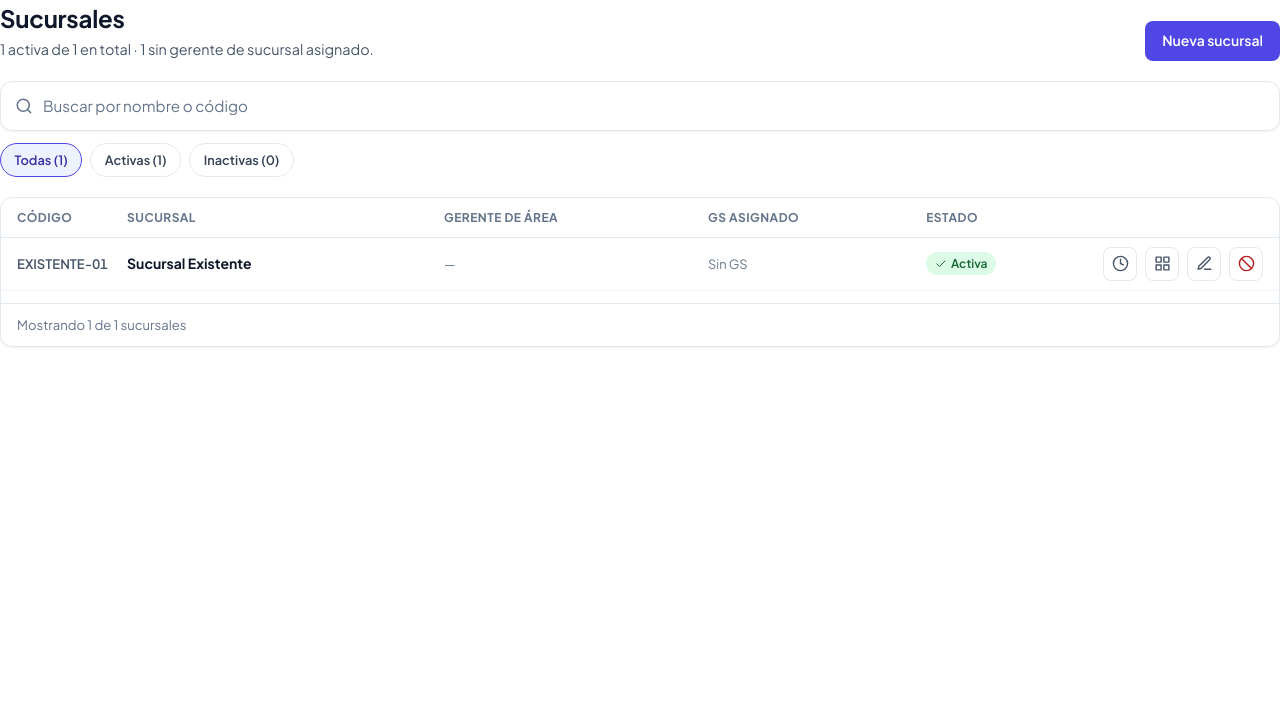
SucursalesPage: número de guardias › conserva el modal, los datos y la lista ante creación denegada
Check: the text "Sucursal Existente" is shown, box [127,254,252,272]
Click the button "Nueva sucursal" at x=1213, y=41, box [1145,21,1279,61]
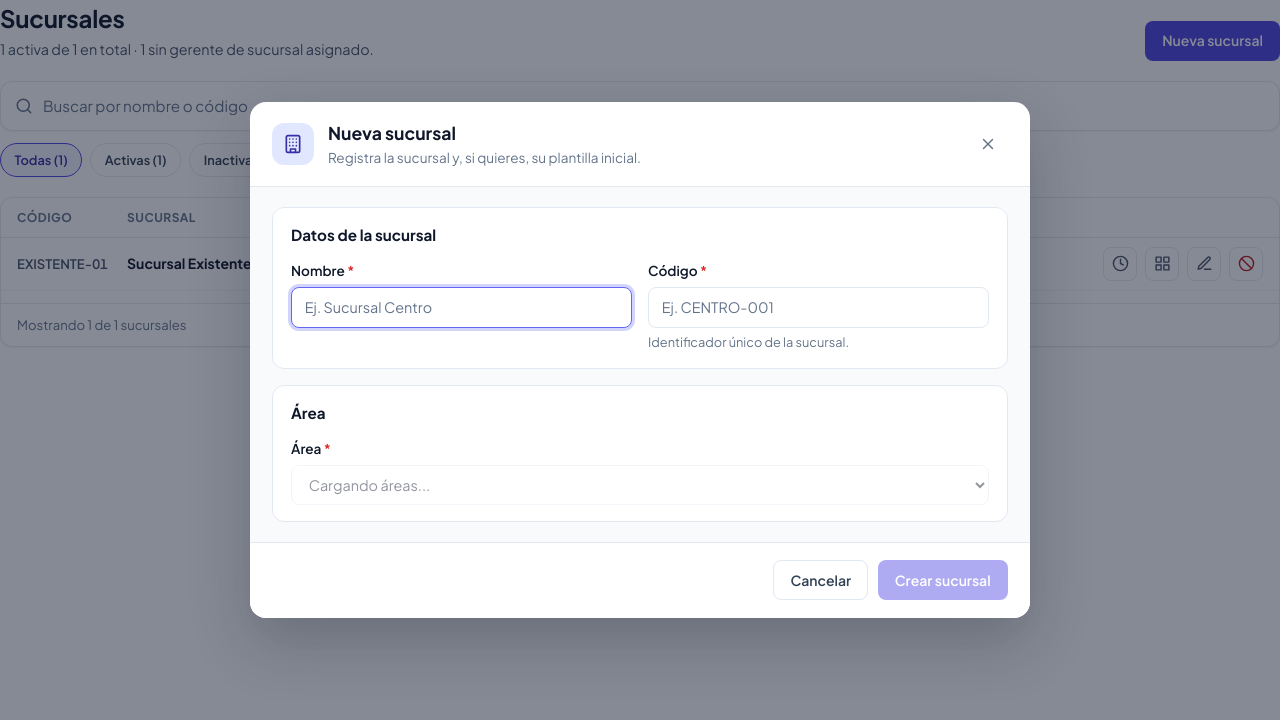
Type "Sucursal Centro" into the field labelled "Nombre *" at x=462, y=307, box [291,287,632,328]
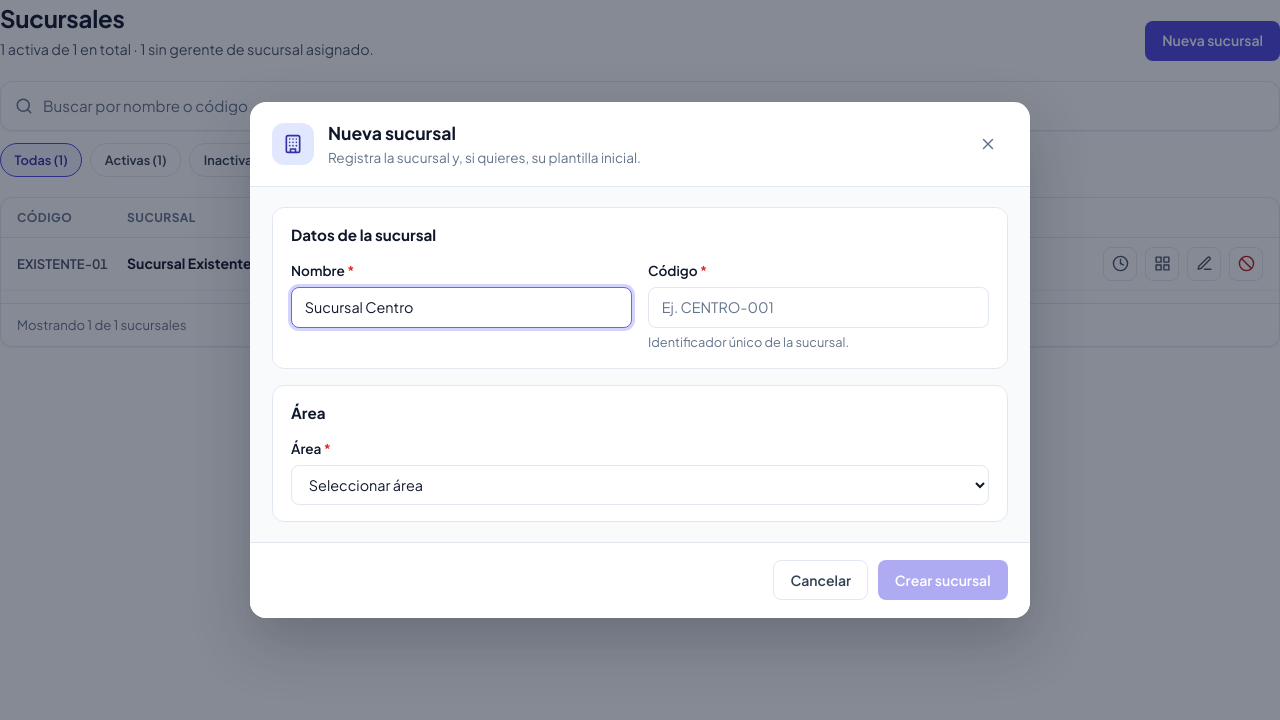
Type "CENTRO-01" into the field labelled "Código *" at x=818, y=307, box [648,287,989,328]
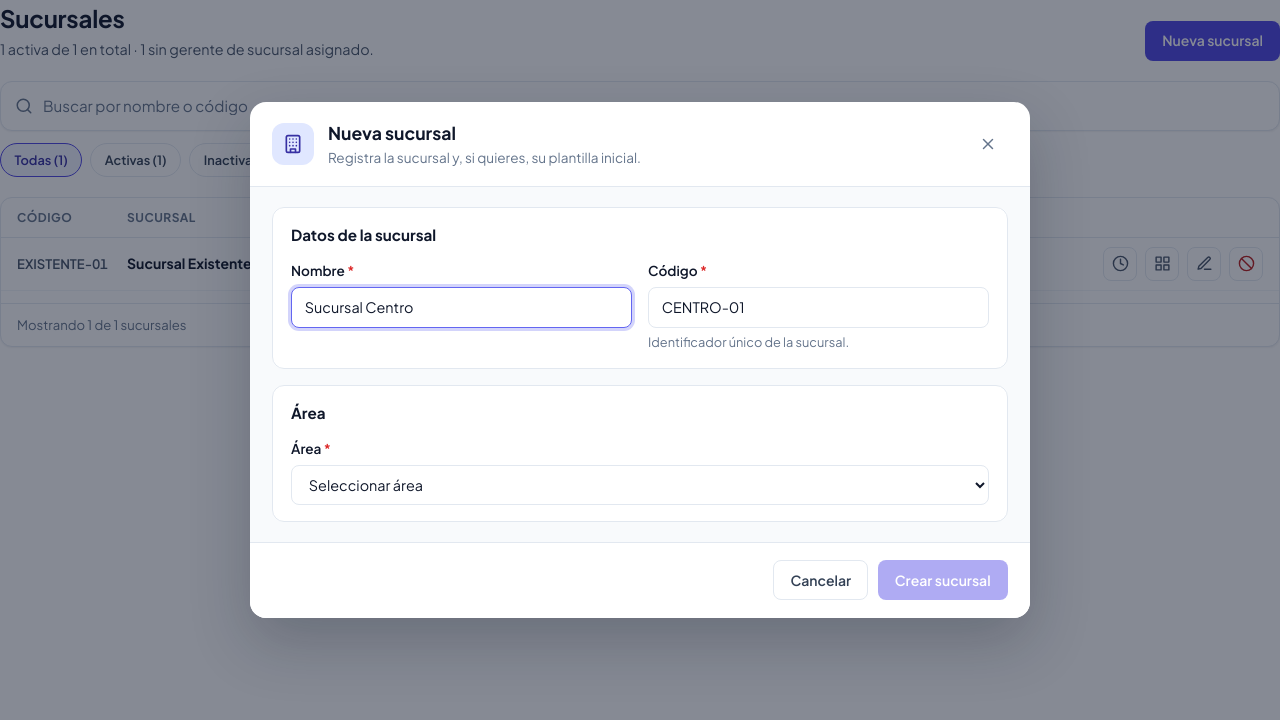
Select "CENTRO — Centro" in the dropdown labelled "Área *" at x=640, y=485, box [291,465,989,505]
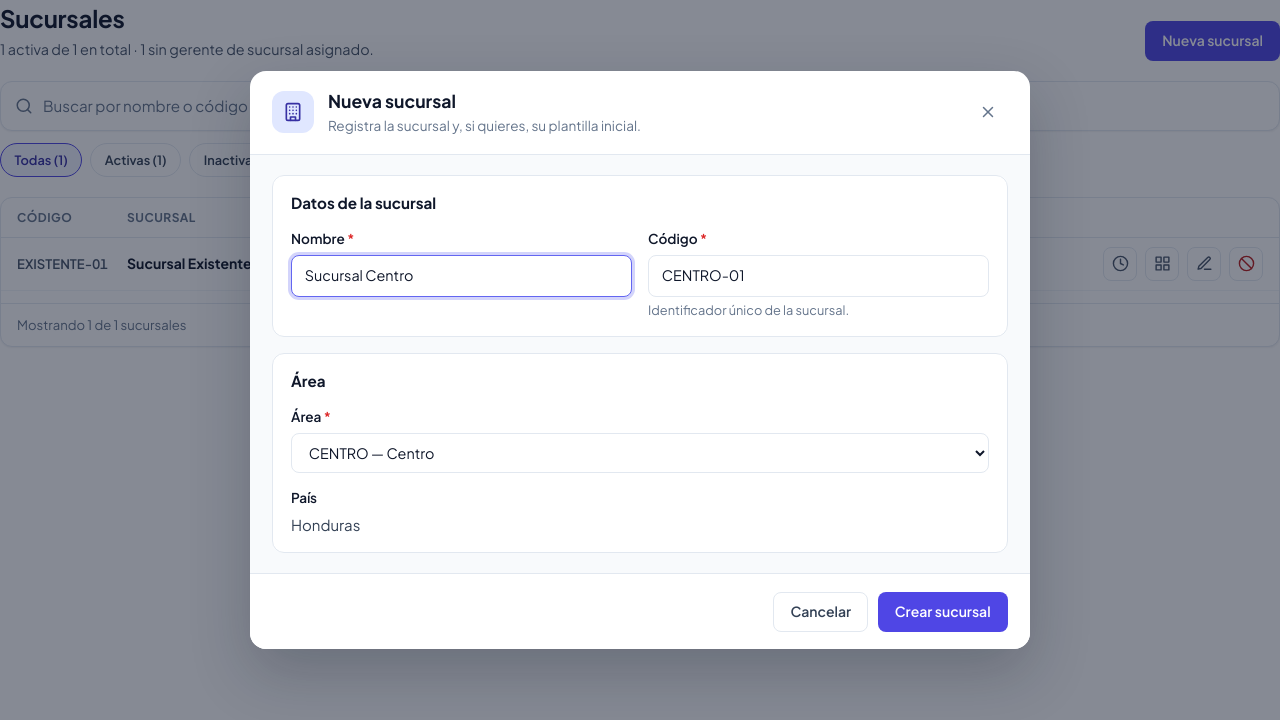
Click the button "Crear sucursal" at x=943, y=612, box [878,592,1008,632]
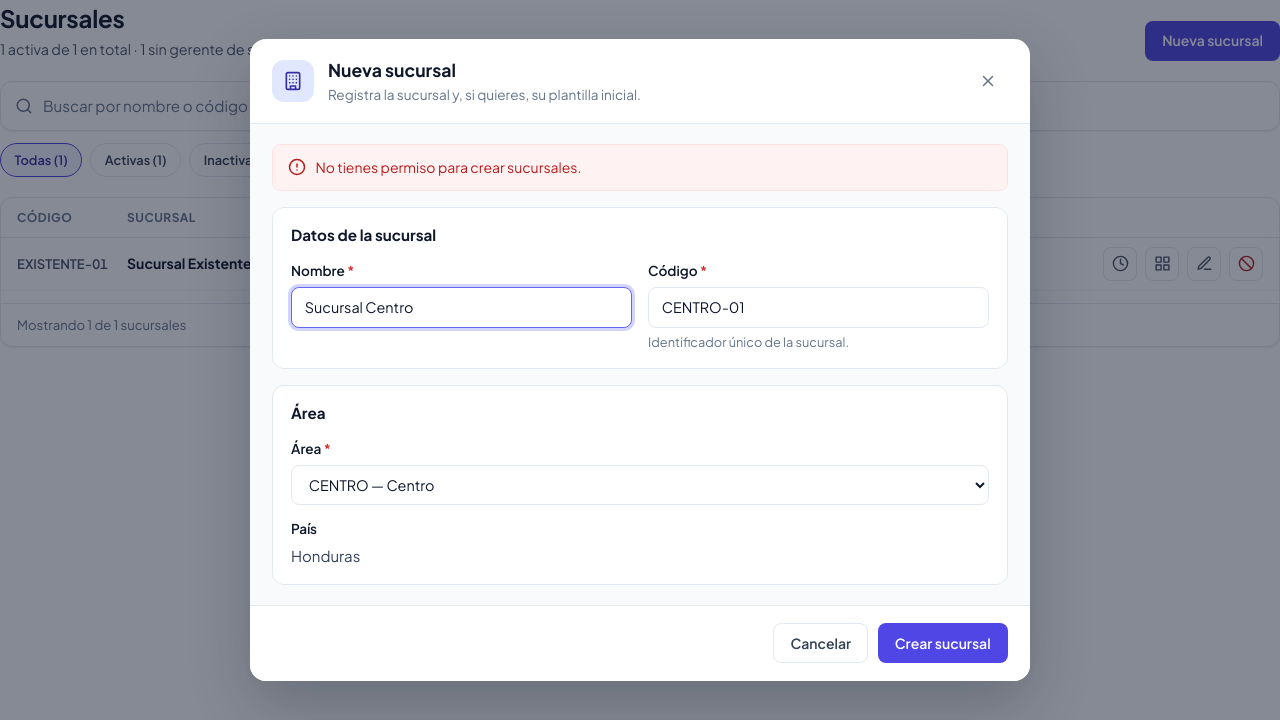
Check: the text "Sucursal Existente" is shown, box [127,254,252,272]
Check: the text "No tienes permiso para crear sucursales." is shown, box [315,157,582,178]
